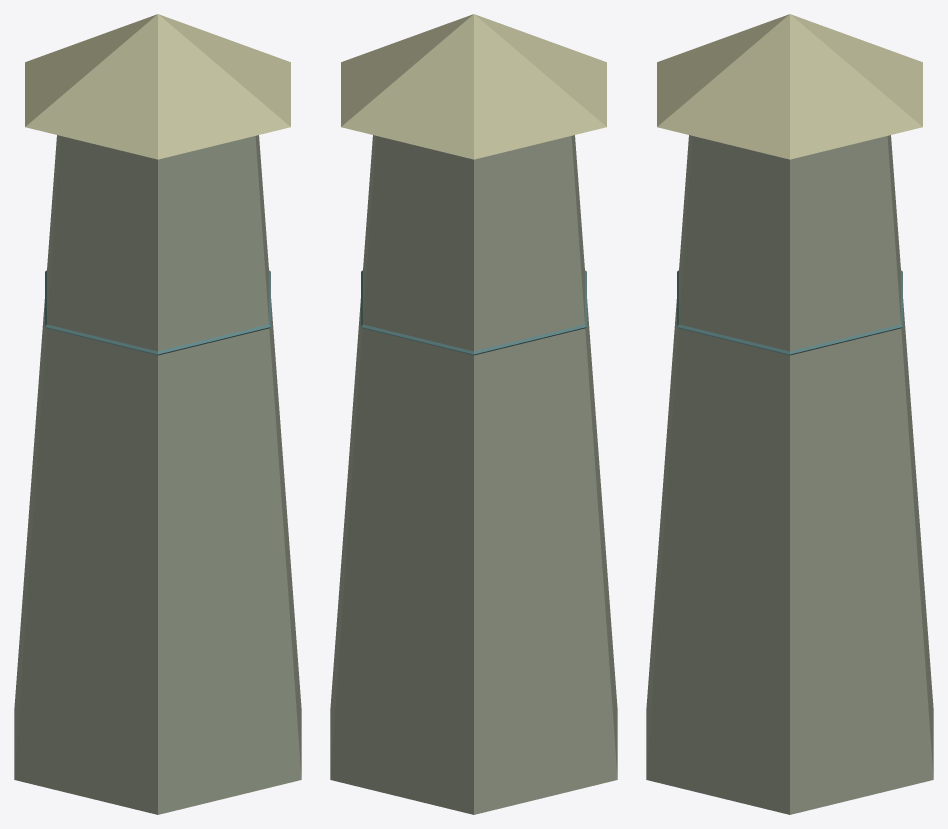
File: map-exclusive-v3__ruins_05.glb
The picture shows the model from 3 angles, left to right: view 1: azimuth 30°, elevation 25°; view 2: azimuth 150°, elevation 25°; view 3: azimuth 270°, elevation 25°; orthographic projection.
Parts seen in each view (by area): view 1: ruins_05; view 2: ruins_05; view 3: ruins_05.
Boxes of the visible parts, x1,y1,x2,y2 form: ruins_05: (14,14,301,814); ruins_05: (330,14,617,814); ruins_05: (646,14,933,814).
Size of the model in its own units: 1.08 by 2.62 by 0.9352.
